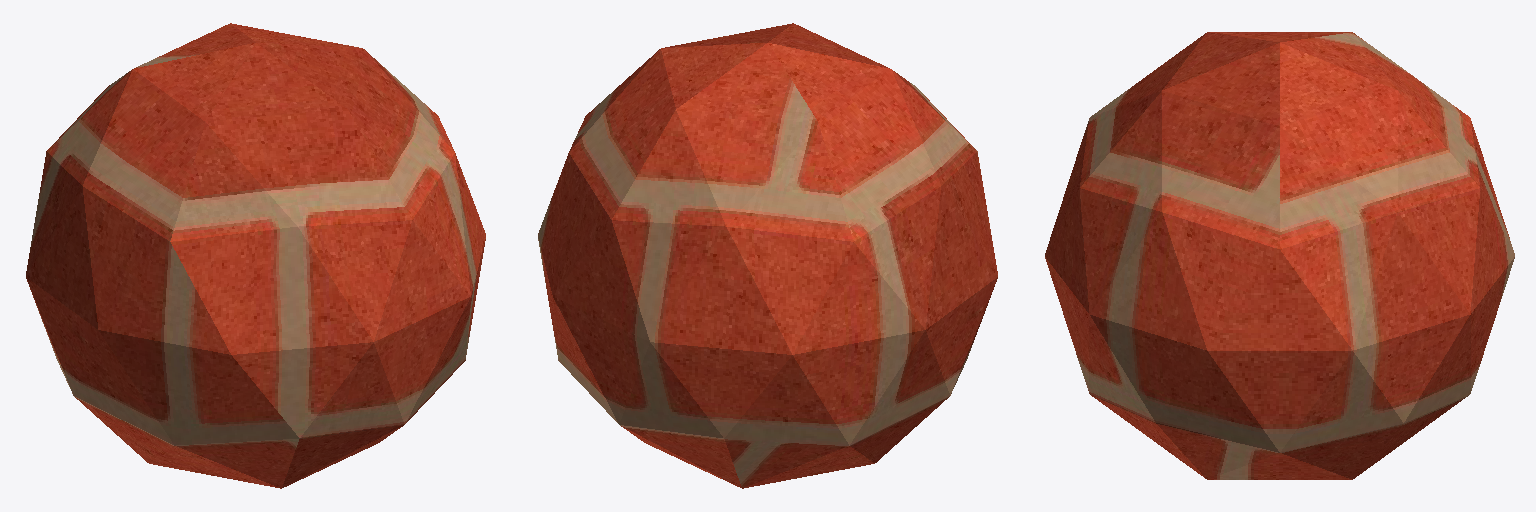
The picture shows the model from 3 angles: view 1: azimuth 30°, elevation 25°; view 2: azimuth 150°, elevation 25°; view 3: azimuth 270°, elevation 25°; orthographic projection.
Parts seen in each view (by area): view 1: Icosphere; view 2: Icosphere; view 3: Icosphere.
Part boxes in pixels (x1,y1,x2,y2): Icosphere: (26, 23, 485, 488); Icosphere: (538, 23, 997, 488); Icosphere: (1045, 32, 1514, 479).
Bounding box in the file's own units: 1.9 × 2 × 2.
Materials: 1 (1 with a texture image).